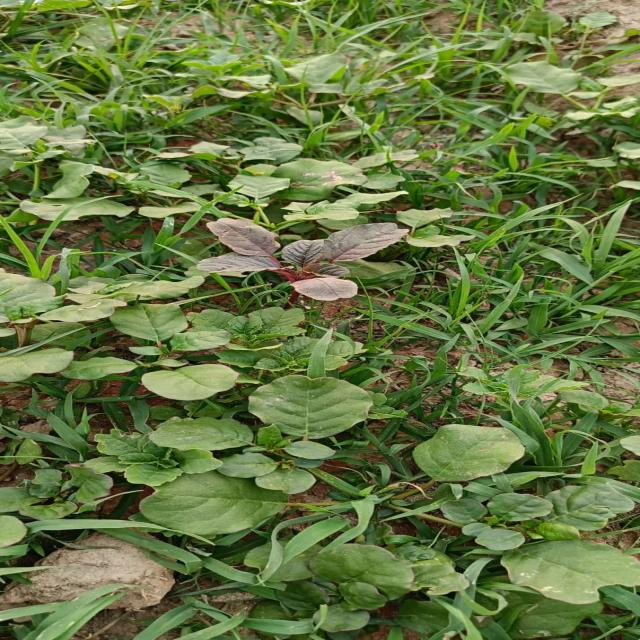plant: (193, 218, 410, 301)
